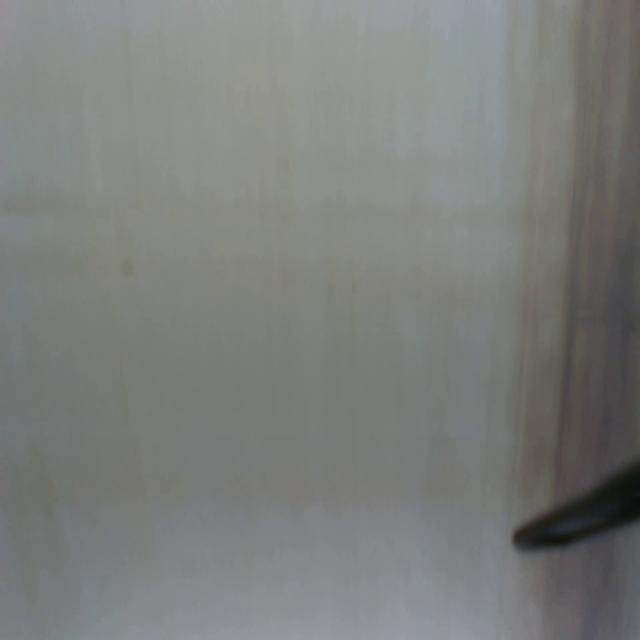color bleeding: (500, 0, 640, 465)
